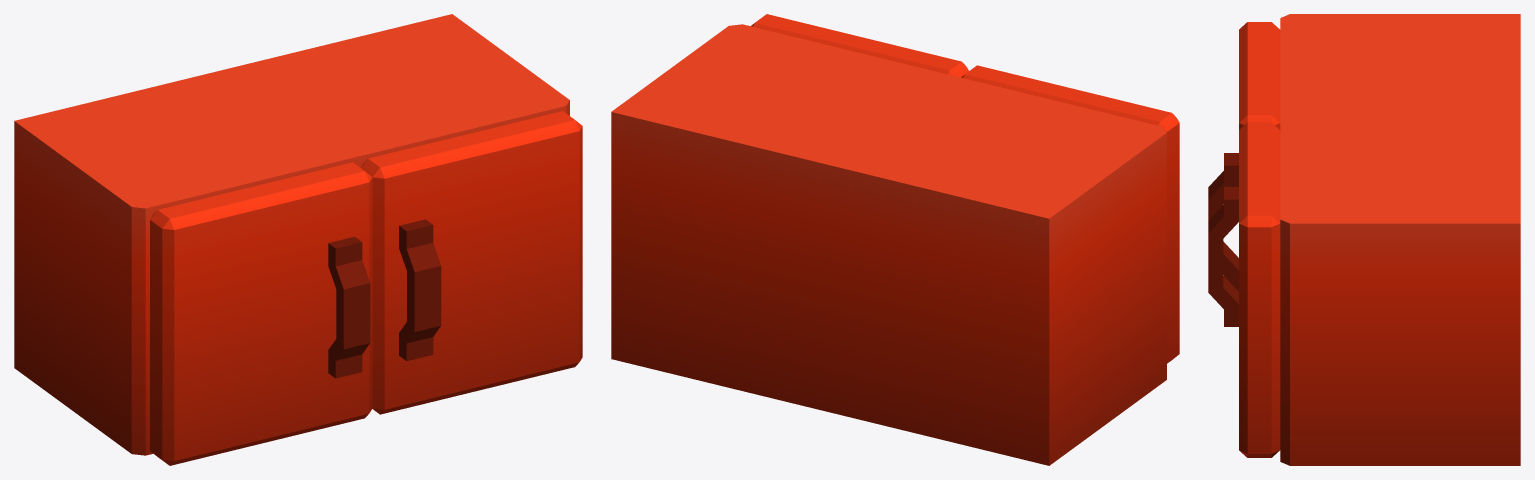
File: Cabinet_01_S_C04.fbx
3 views of the same model, side by side, from view 1: azimuth 30°, elevation 25°; view 2: azimuth 150°, elevation 25°; view 3: azimuth 270°, elevation 25° (orthographic).
Parts seen in each view (by area): view 1: Cabinet_01_S_C04, Cabinet_01_S_C04_Door_R, Cabinet_01_S_C04_Door_L; view 2: Cabinet_01_S_C04, Cabinet_01_S_C04_Door_R, Cabinet_01_S_C04_Door_L; view 3: Cabinet_01_S_C04, Cabinet_01_S_C04_Door_L, Cabinet_01_S_C04_Door_R.
Boxes of the visible parts, <box> form: Cabinet_01_S_C04: <box>14,14,569,455</box>; Cabinet_01_S_C04_Door_R: <box>150,162,372,465</box>; Cabinet_01_S_C04_Door_L: <box>361,111,582,414</box>; Cabinet_01_S_C04: <box>611,24,1166,465</box>; Cabinet_01_S_C04_Door_R: <box>961,65,1179,363</box>; Cabinet_01_S_C04_Door_L: <box>751,14,968,77</box>; Cabinet_01_S_C04: <box>1280,14,1520,465</box>; Cabinet_01_S_C04_Door_L: <box>1208,122,1280,457</box>; Cabinet_01_S_C04_Door_R: <box>1208,22,1280,291</box>.
Bounding box in the file's own units: 100 × 53.91 × 62.96.
